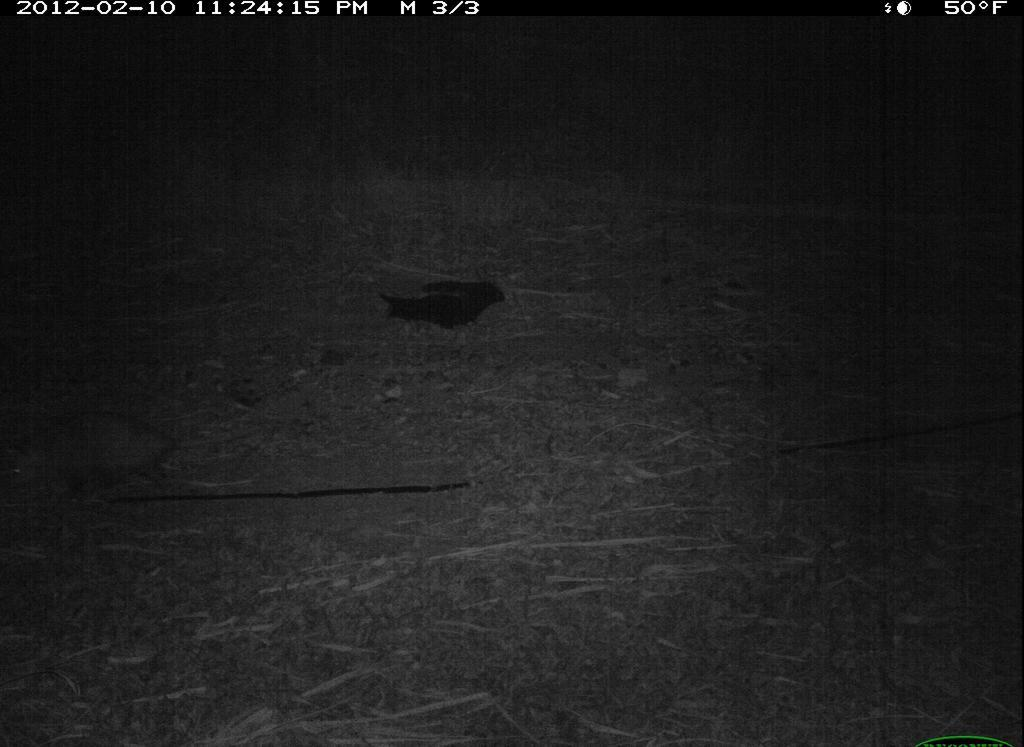opossum: (3, 397, 208, 521)
